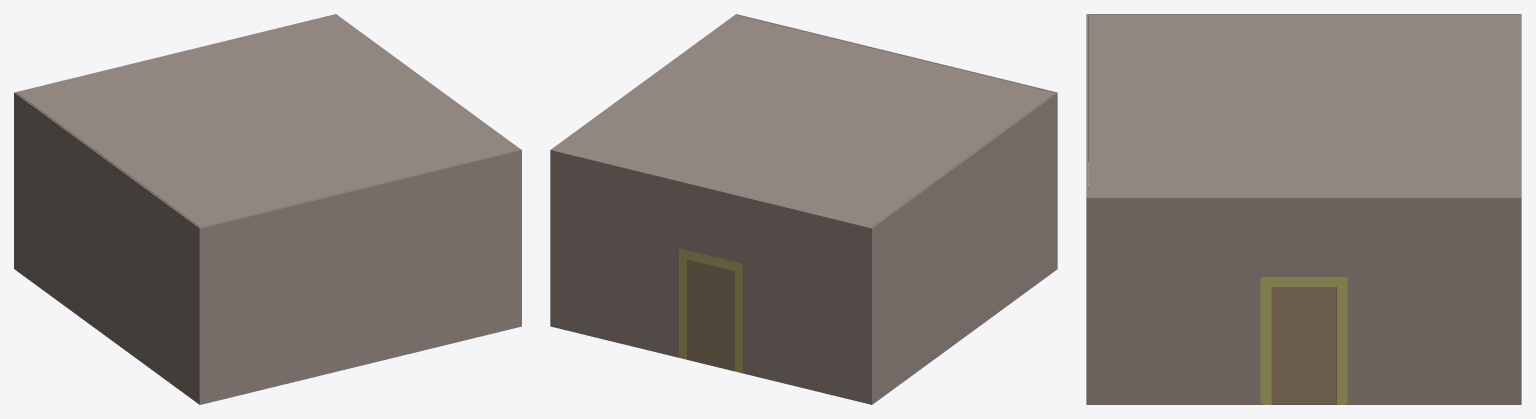
Rendered from Room29_Kitchen.fbx.
3 renders of one model, left to right at view 1: azimuth 30°, elevation 25°; view 2: azimuth 150°, elevation 25°; view 3: azimuth 270°, elevation 25°, orthographic. The views are drawn at different scales.
Parts seen in each view (by area): view 1: Roof, WallPosZ, WallPosX; view 2: Roof, WallSlicedNegZ, WallPosX, DoorNegZ, DoorFrameNegZ, WallPosZ, WallSlicedNegX; view 3: WallSlicedNegX, Roof, DoorNegX, DoorFrameNegX, WallSlicedNegZ, WallPosZ, WallPosX.
Boxes of the visible parts, <box> form: Roof: <box>17,15,519,227</box>; WallPosZ: <box>200,150,521,404</box>; WallPosX: <box>14,92,200,404</box>; Roof: <box>552,15,1054,227</box>; WallSlicedNegZ: <box>550,149,871,404</box>; WallPosX: <box>870,92,1057,404</box>; DoorNegZ: <box>687,259,734,370</box>; DoorFrameNegZ: <box>679,248,742,372</box>; WallPosZ: <box>736,14,1056,92</box>; WallSlicedNegX: <box>550,14,736,326</box>; WallSlicedNegX: <box>1086,197,1521,404</box>; Roof: <box>1088,15,1519,197</box>; DoorNegX: <box>1271,286,1336,404</box>; DoorFrameNegX: <box>1260,277,1347,404</box>; WallSlicedNegZ: <box>1518,14,1521,404</box>; WallPosZ: <box>1086,14,1088,404</box>; WallPosX: <box>1087,14,1521,161</box>.
Size of the model in its own units: 100 by 52.5 by 100.
